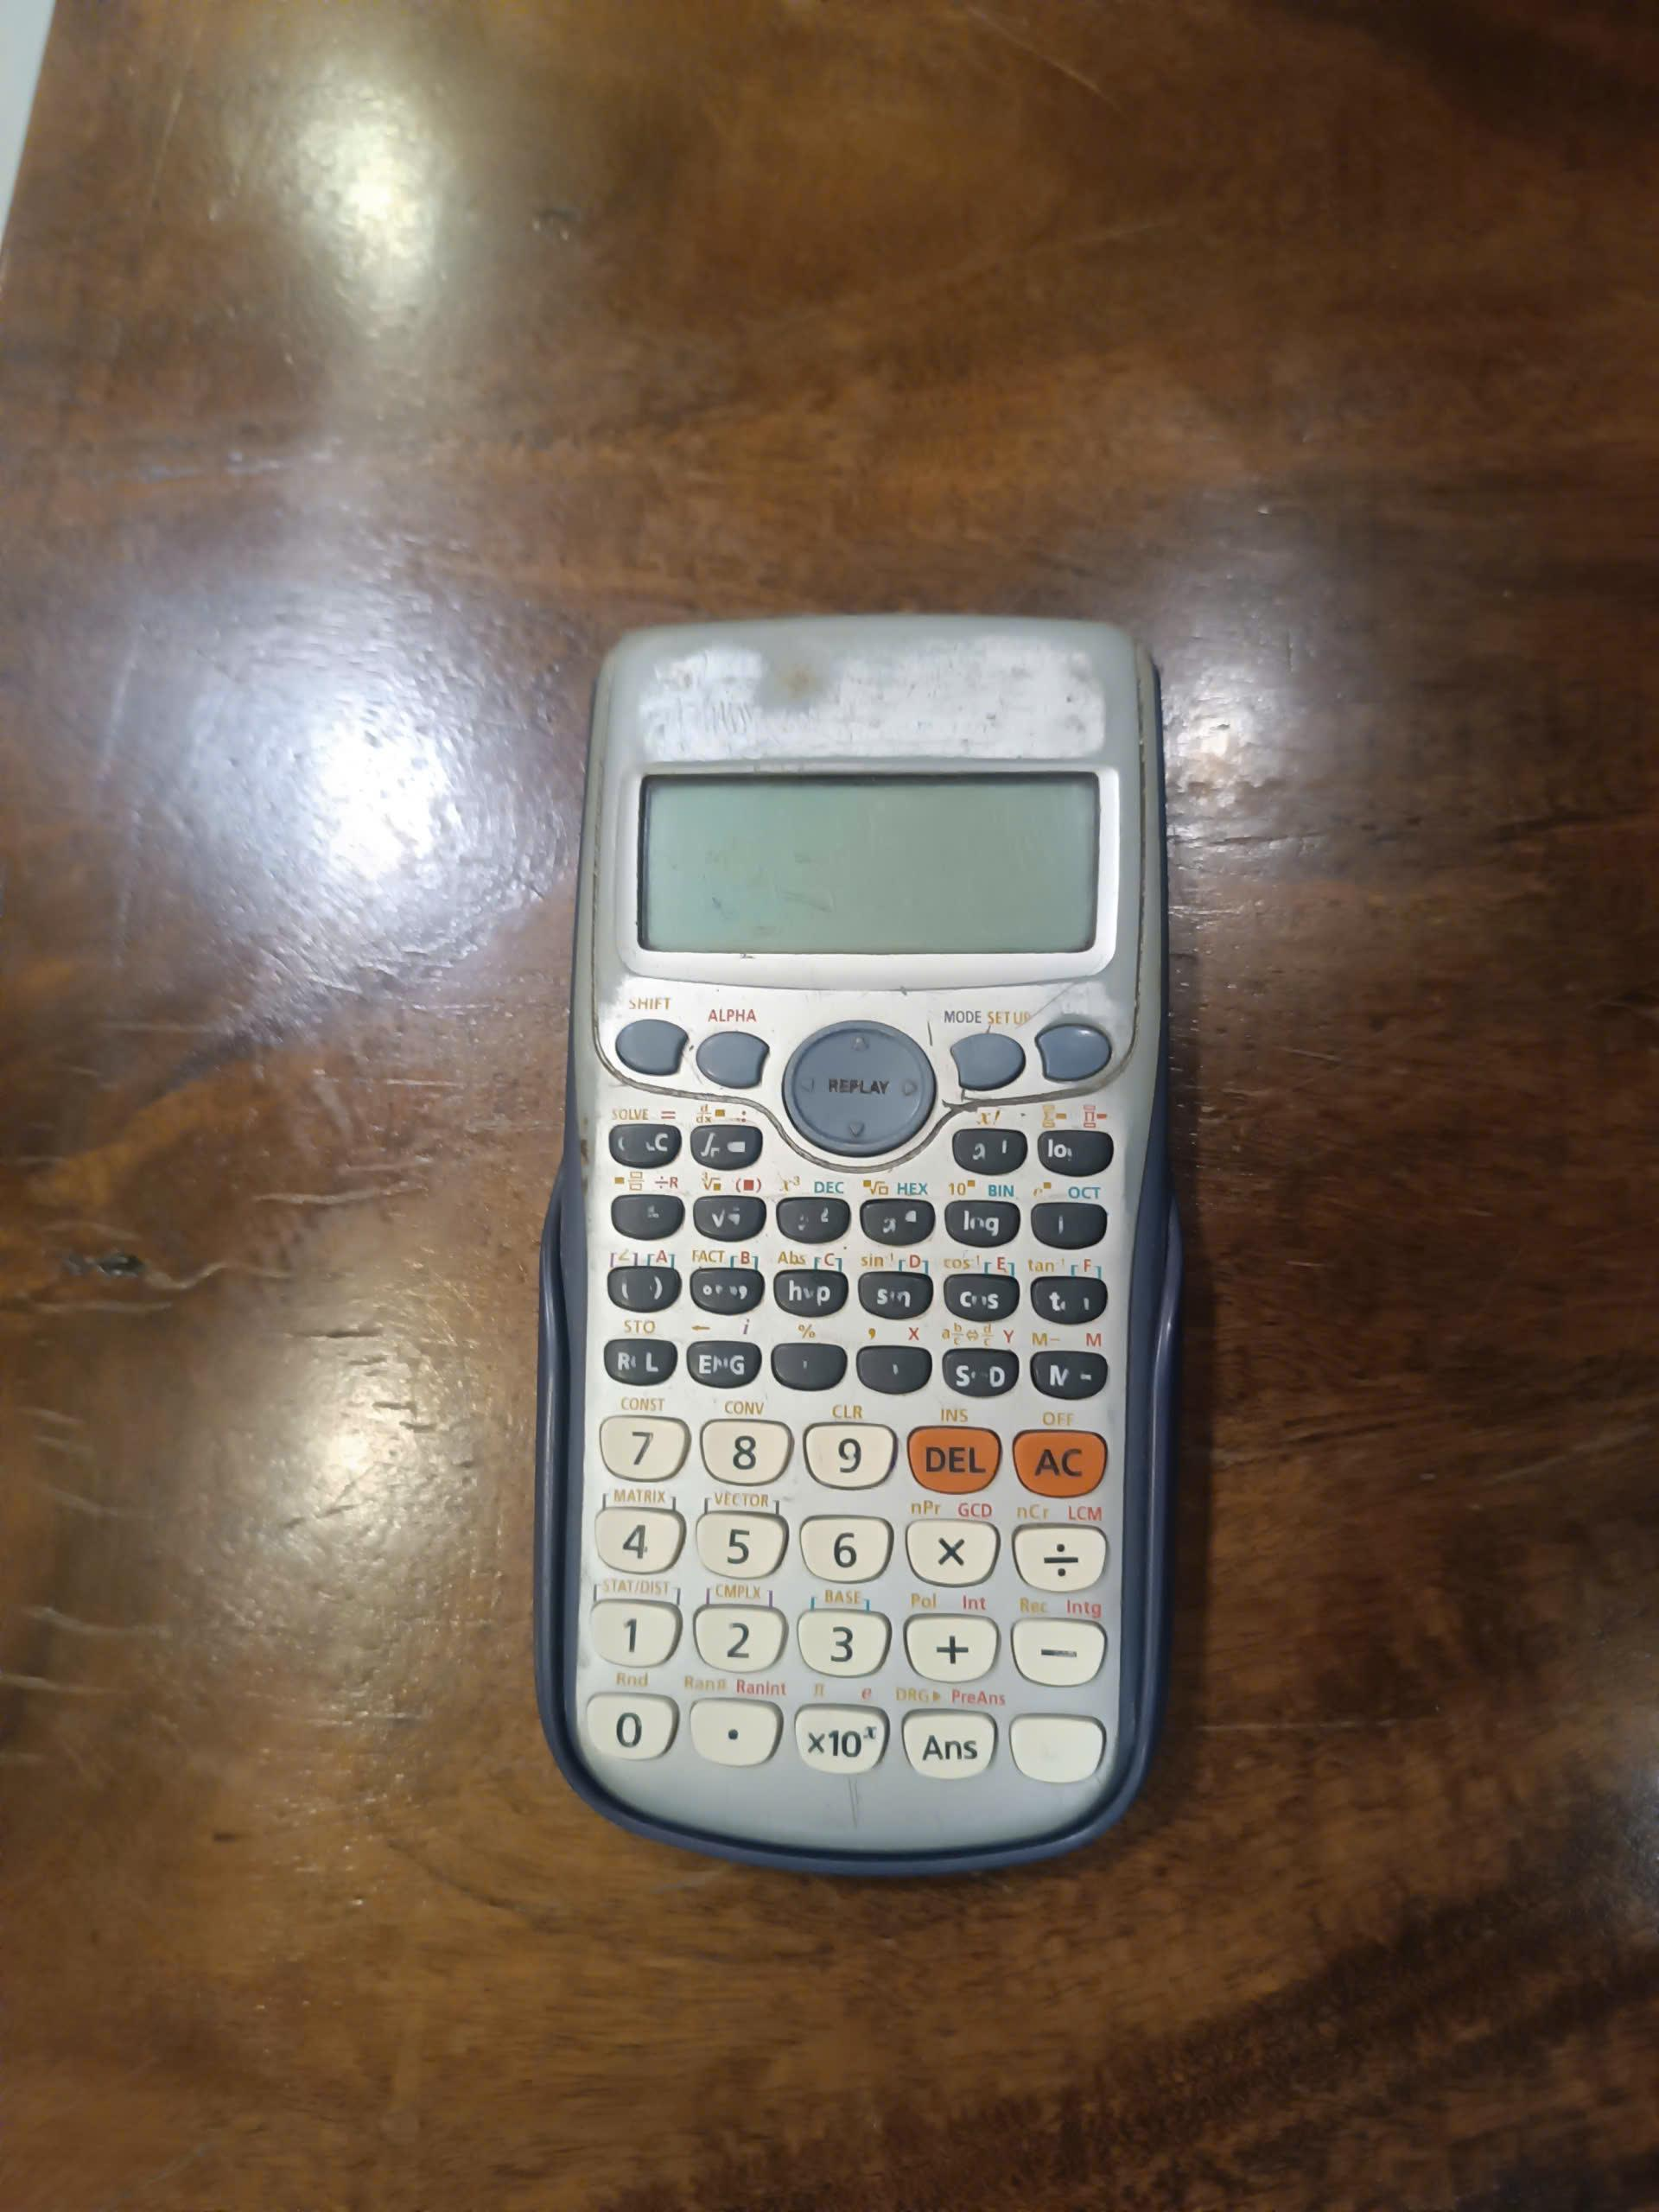Con lai: (540, 618, 1188, 1874)
